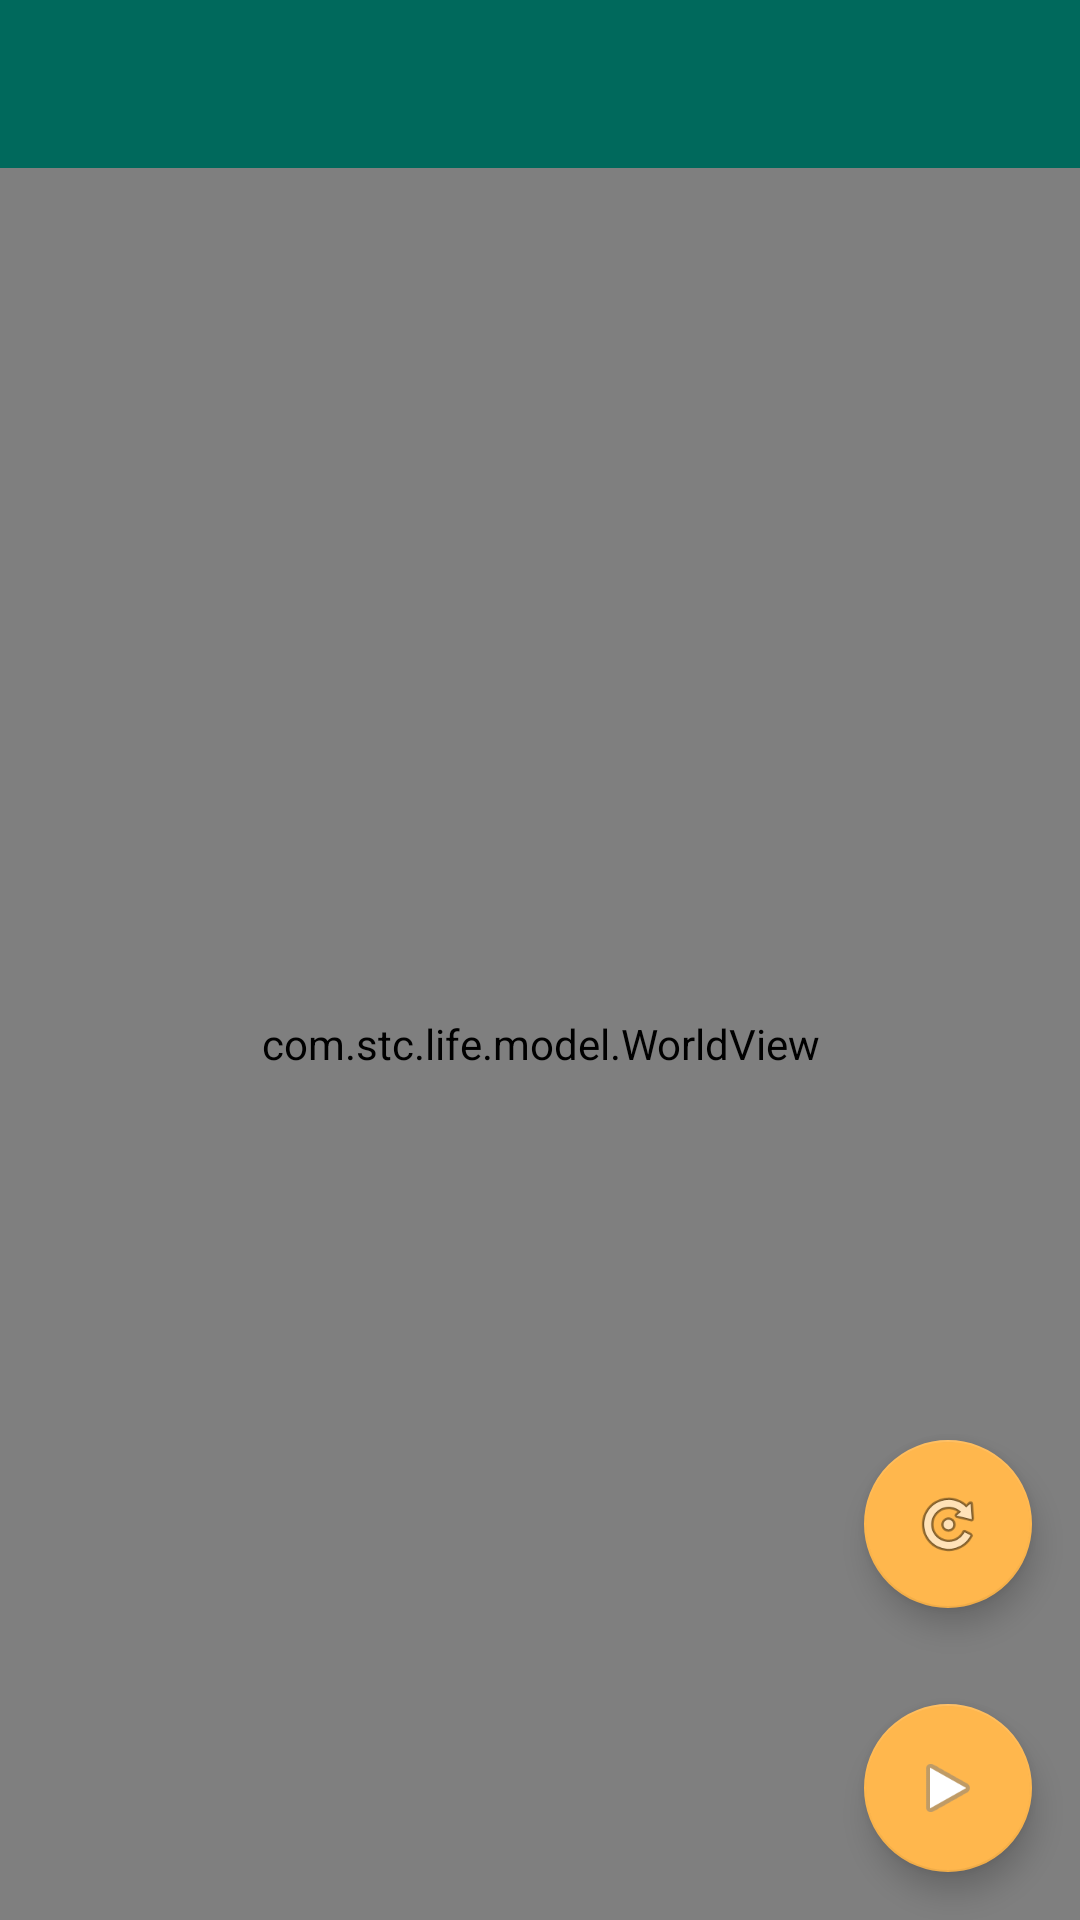

Screen size 1080w x 1920h. Icon name, then its box in pixels as (x1, y1, x2, y2):
play: (864, 1704, 1032, 1872)
rotate: (864, 1440, 1032, 1608)
